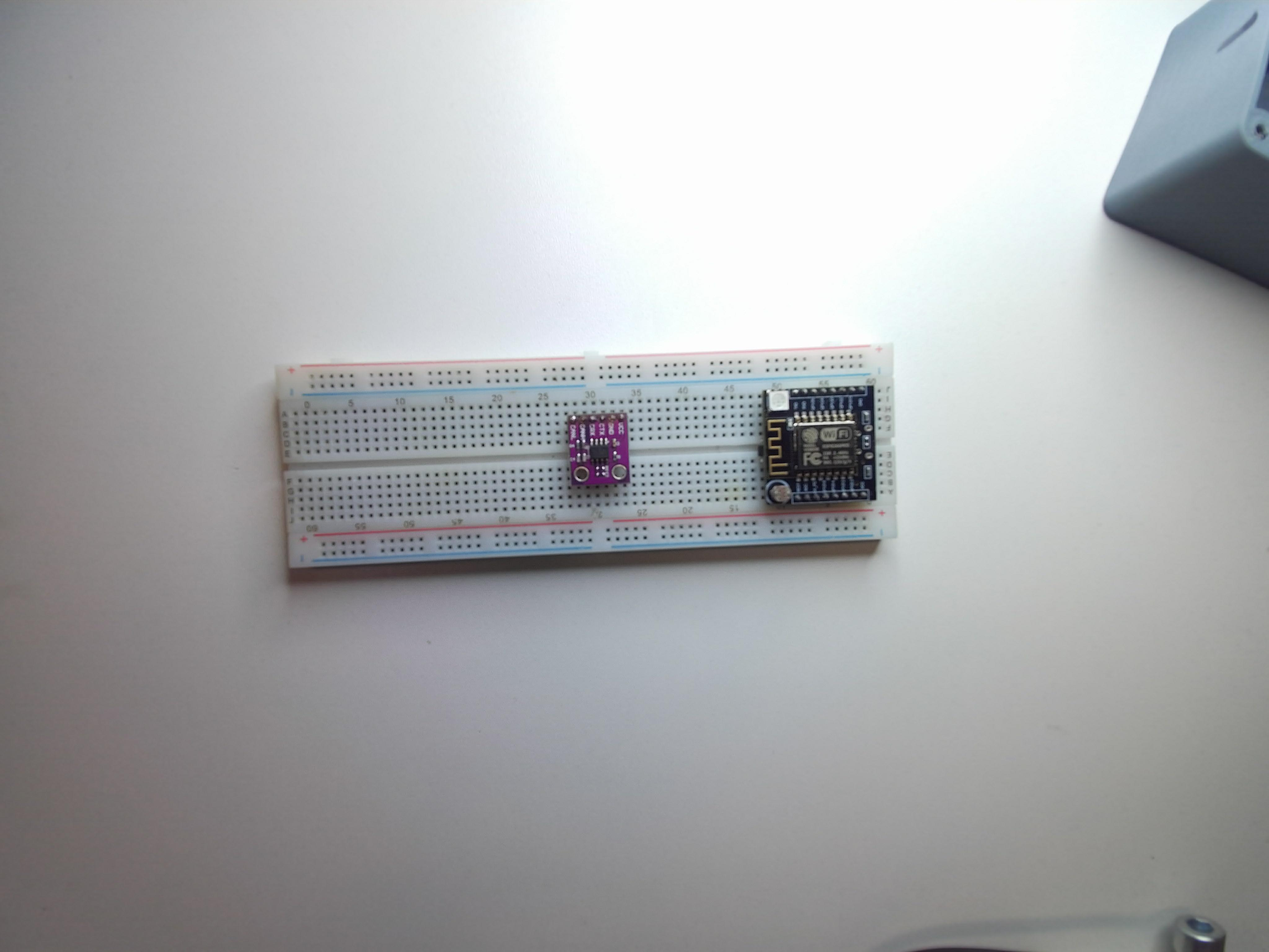base: (272, 336, 898, 574)
esp: (759, 382, 879, 509)
purple-board: (565, 410, 632, 498), (566, 411, 631, 496)
